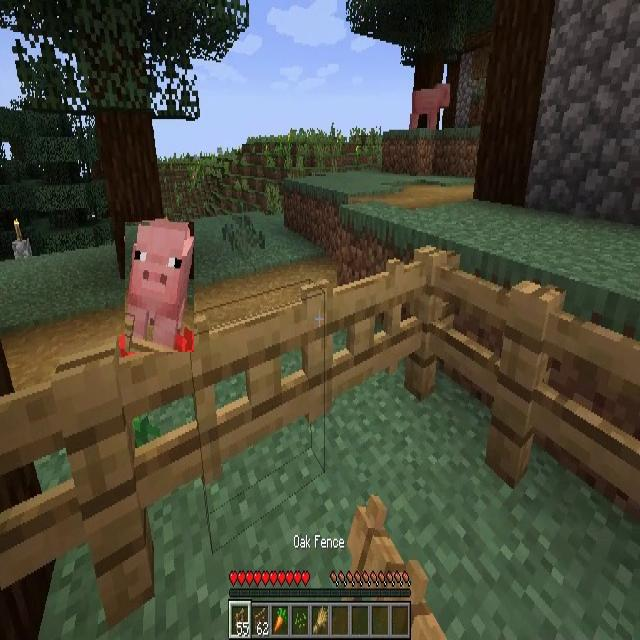pig: (125, 222, 194, 352)
